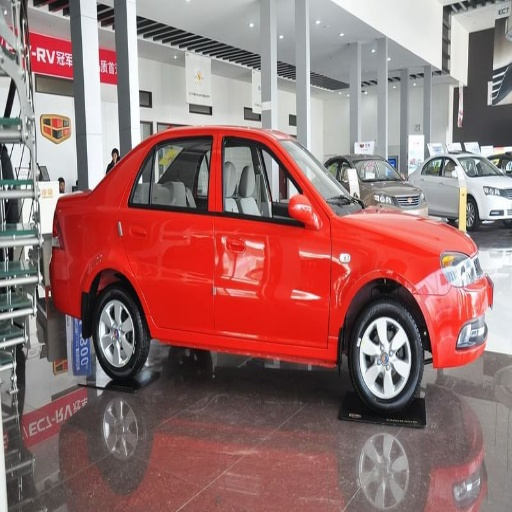back_right_door: (125, 133, 237, 326)
front_bumper: (423, 289, 472, 350)
front_right_door: (215, 133, 329, 347)
front_right_light: (439, 249, 481, 288)
